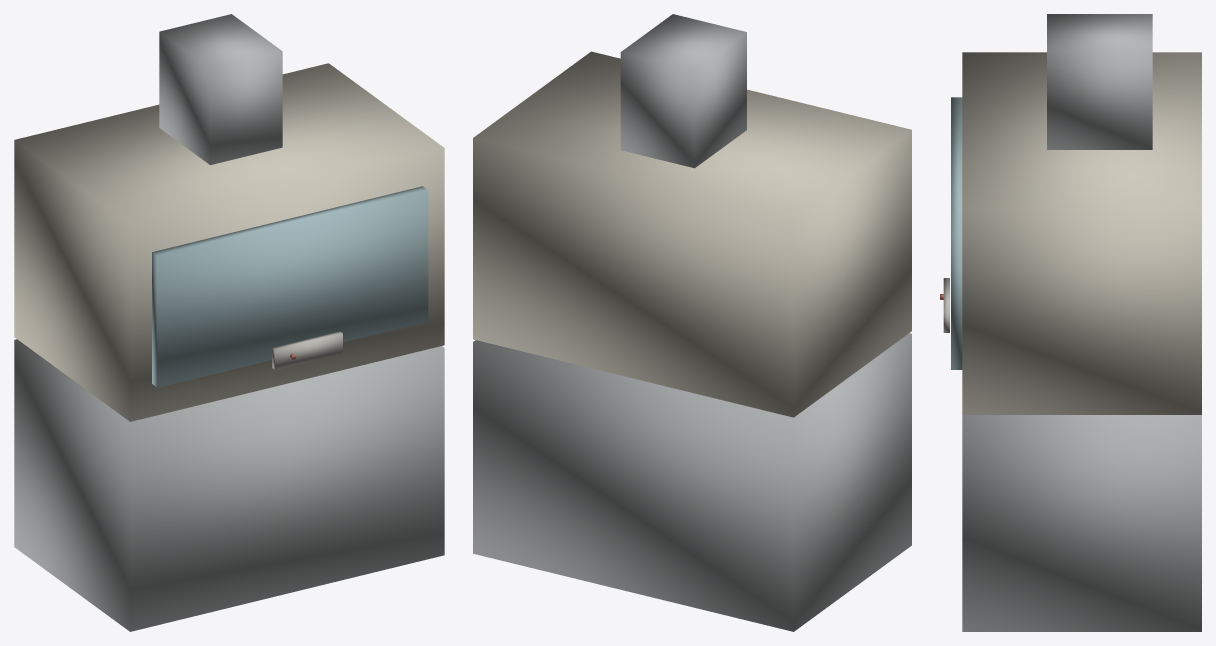
File: fume_hood__deep.glb
The picture shows the model from 3 angles, left to right: view 1: azimuth 30°, elevation 25°; view 2: azimuth 150°, elevation 25°; view 3: azimuth 270°, elevation 25°; orthographic projection. The views are drawn at different scales.
Parts seen in each view (by area): view 1: world; view 2: world; view 3: world.
Part boxes in pixels (left/top/right/bottom): world: left=14, top=14, right=444, bottom=631; world: left=473, top=14, right=911, bottom=631; world: left=940, top=14, right=1201, bottom=631.
Size of the model in its own units: 1.3 by 1.99 by 0.9071.
